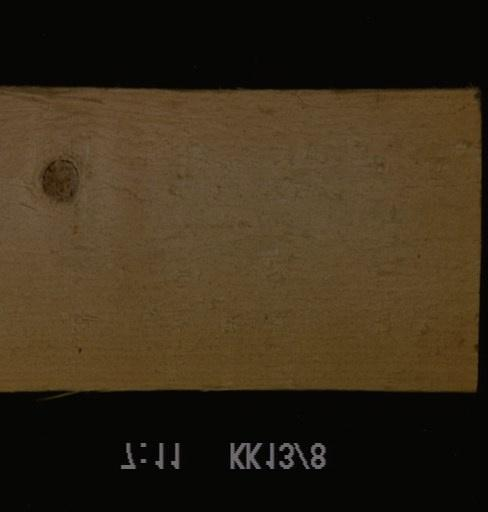dry_knot: (38, 157, 81, 206)
